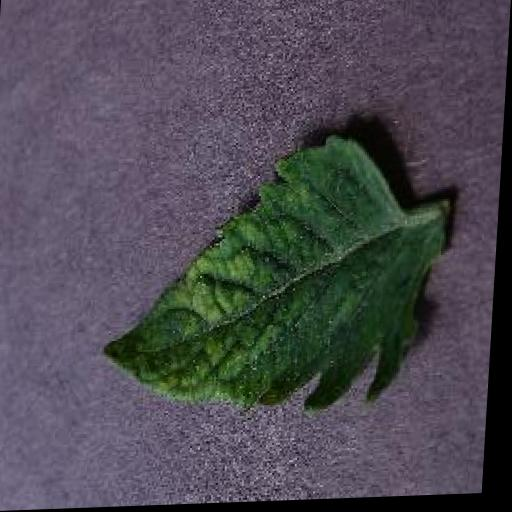Mosaic Virus: (100, 138, 457, 421)
